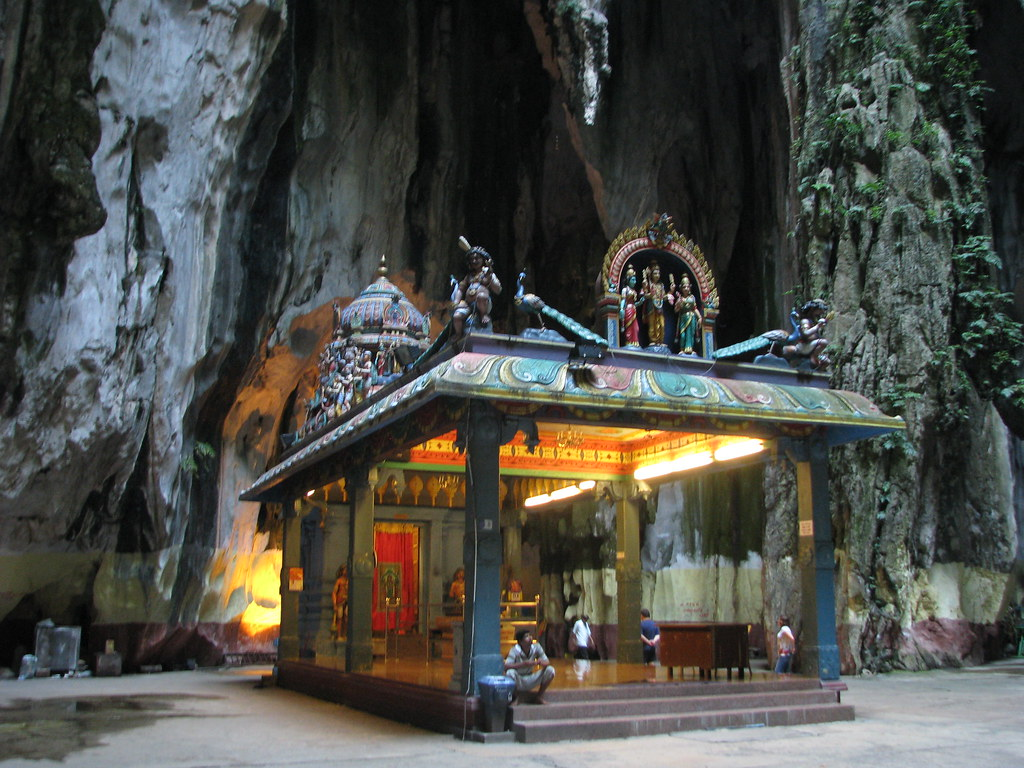Hindu Temple: (240, 217, 839, 715)
